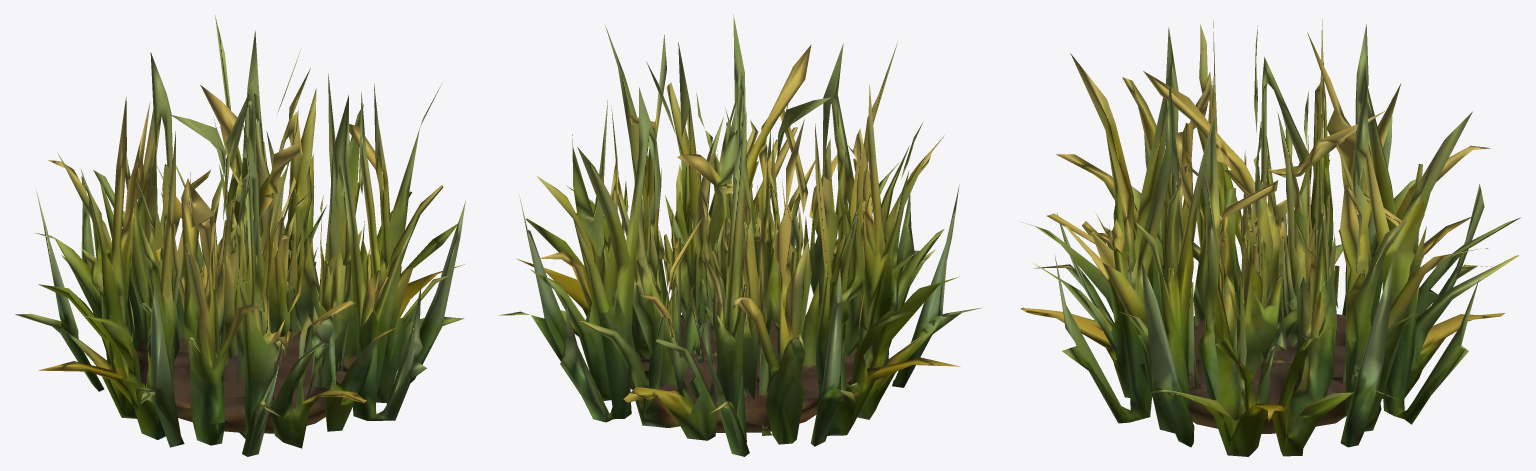
The model's file is tall_grass.glb.
The picture shows the model from 3 angles, left to right: view 1: azimuth 30°, elevation 25°; view 2: azimuth 150°, elevation 25°; view 3: azimuth 270°, elevation 25°; orthographic projection. The views are drawn at different scales.
Parts seen in each view (by area): view 1: tripo_node_cc045101-2739-4f13-93ae-458810aedb5e; view 2: tripo_node_cc045101-2739-4f13-93ae-458810aedb5e; view 3: tripo_node_cc045101-2739-4f13-93ae-458810aedb5e.
Part boxes in pixels (x1,y1,x2,y2): tripo_node_cc045101-2739-4f13-93ae-458810aedb5e: [15, 15, 465, 456]; tripo_node_cc045101-2739-4f13-93ae-458810aedb5e: [499, 14, 982, 456]; tripo_node_cc045101-2739-4f13-93ae-458810aedb5e: [1020, 19, 1520, 456].
Size of the model in its own units: 0.9523 by 0.6891 by 0.9149.
Materials: 1 (1 with a texture image).
